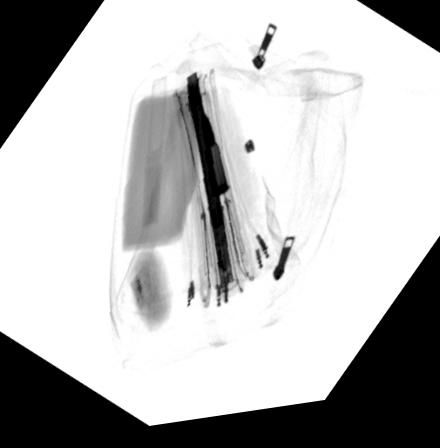Bullet: (197, 115, 230, 203)
